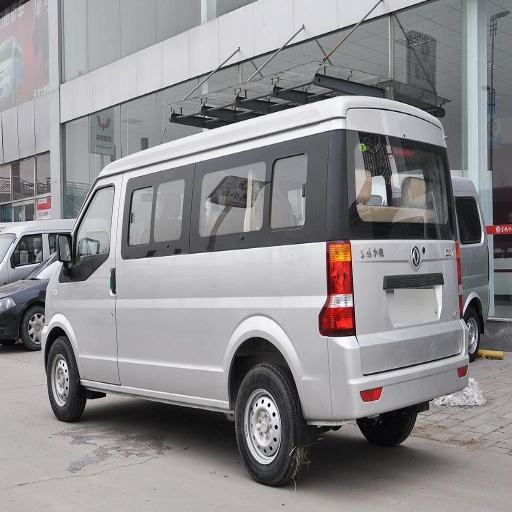back_bumper: (318, 321, 466, 417)
back_left_light: (319, 243, 354, 335)
trunk: (151, 291, 321, 415), (351, 242, 483, 373), (213, 250, 298, 287)
